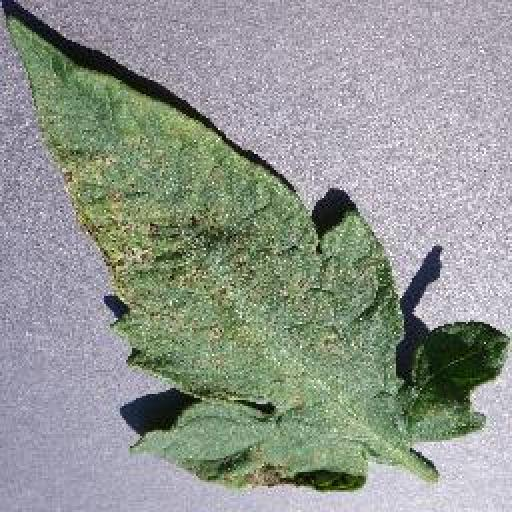Septoria: (1, 14, 512, 494)
